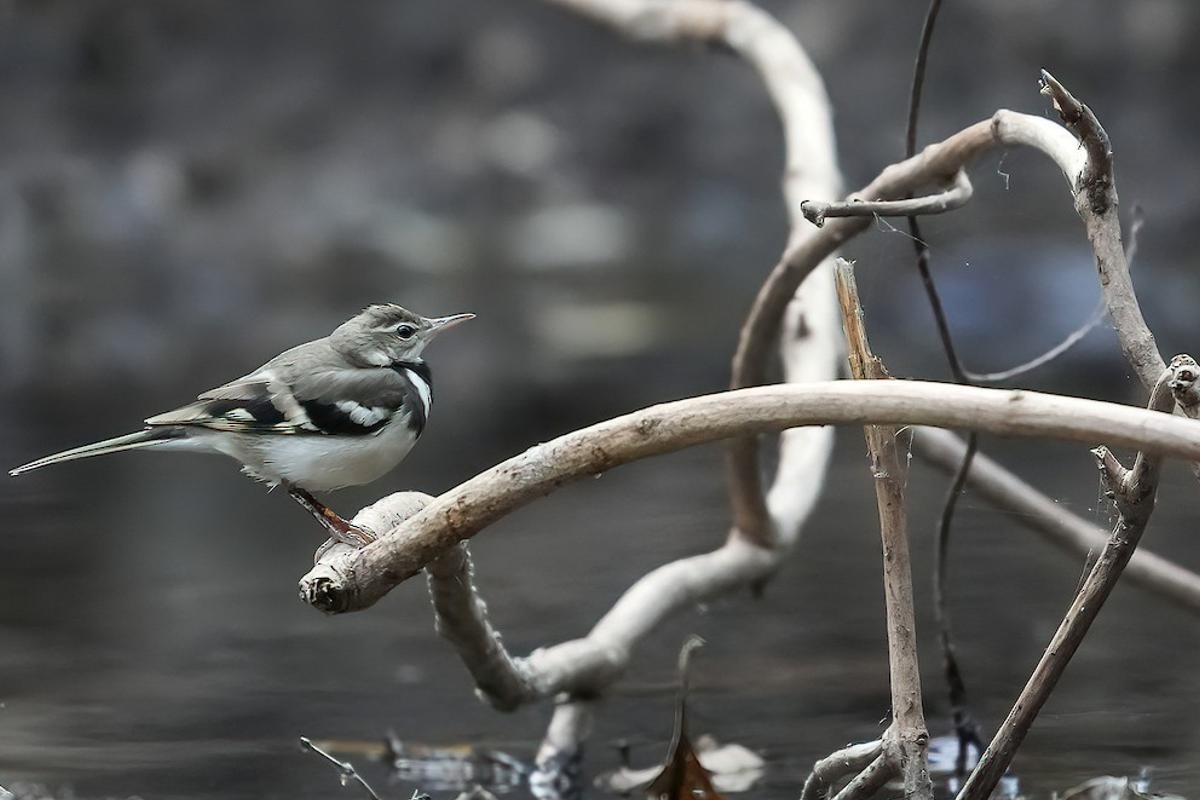wagtail: (89, 291, 483, 522)
